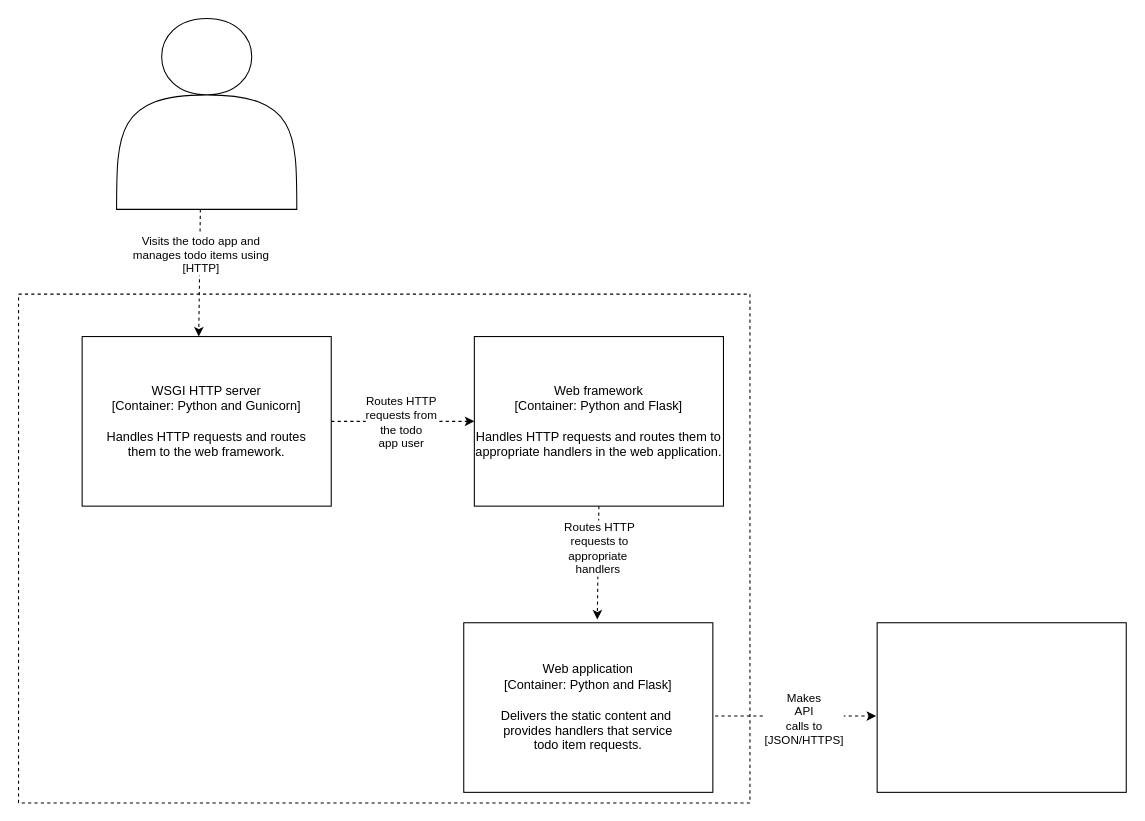
Some shapes in this 1145 by 821 pixel diagram are drawn without their labels. Here are the shapes that lost their labels. From the top down, the box of each, then its label:
(116, 17, 297, 209): Todo app user A user of the todo app, with todo items to manage
(876, 622, 1126, 792): Trello API [Software system] Provides an API to organise and store todo items.
